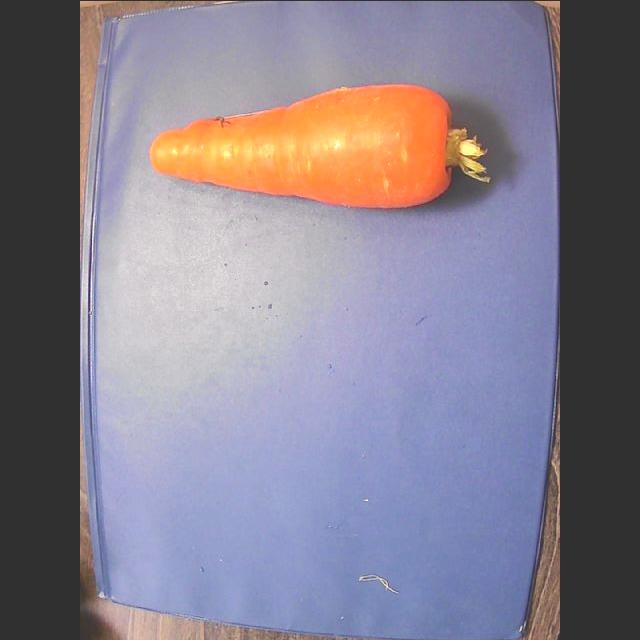zanahoria: (151, 83, 489, 207)
